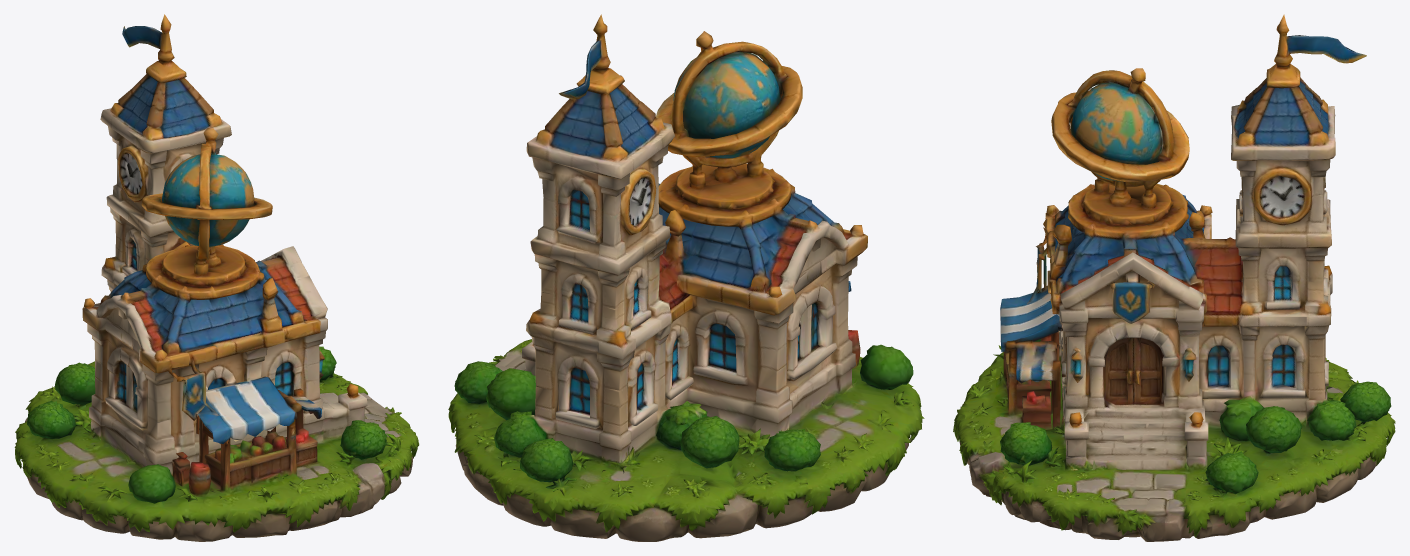
Rendered from societies.glb.
3 views of the same model, side by side, from view 1: azimuth 30°, elevation 25°; view 2: azimuth 150°, elevation 25°; view 3: azimuth 270°, elevation 25° (orthographic). The views are drawn at different scales.
Visible parts, largest first — view 1: tripo_node_4d9c04b4-855e-4038-a35d-2718c96100a9; view 2: tripo_node_4d9c04b4-855e-4038-a35d-2718c96100a9; view 3: tripo_node_4d9c04b4-855e-4038-a35d-2718c96100a9.
Part boxes in pixels (x1,y1,x2,y2): tripo_node_4d9c04b4-855e-4038-a35d-2718c96100a9: [14, 14, 419, 541]; tripo_node_4d9c04b4-855e-4038-a35d-2718c96100a9: [448, 14, 924, 541]; tripo_node_4d9c04b4-855e-4038-a35d-2718c96100a9: [953, 14, 1395, 541].
Bounding box in the file's own units: 0.8811 × 0.9908 × 0.8883.
Materials: 1 (1 with a texture image).
